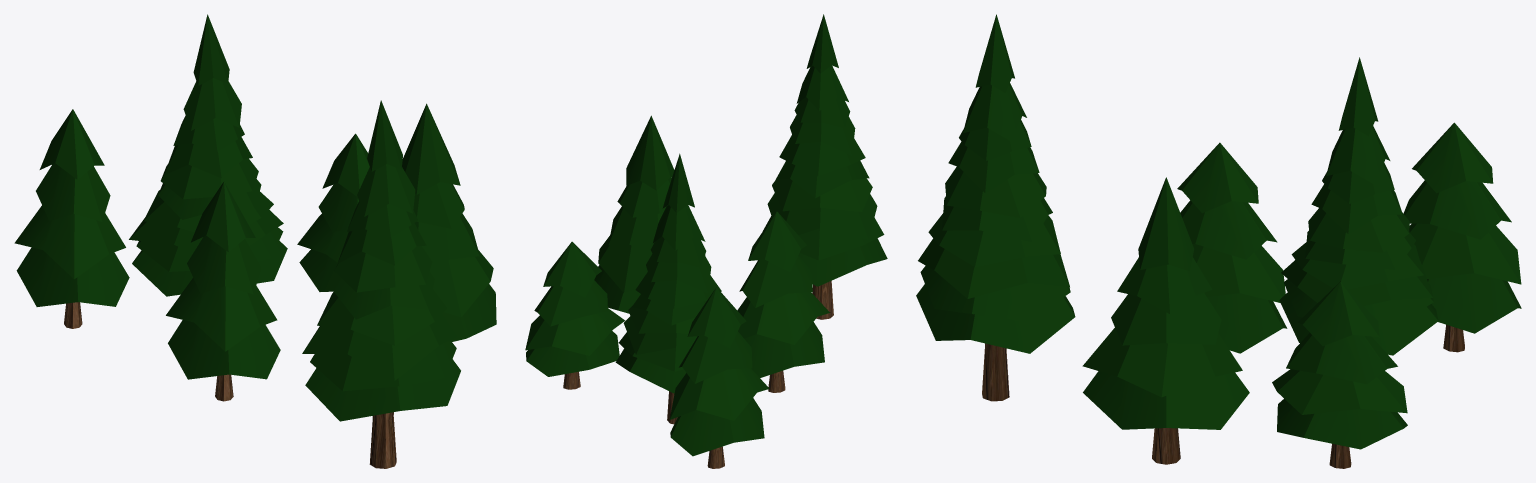
File: Arboles.fbx
3 renders of one model, left to right at view 1: azimuth 30°, elevation 25°; view 2: azimuth 150°, elevation 25°; view 3: azimuth 270°, elevation 25°, orthographic. The views are drawn at different scales.
Visible parts, largest first — view 1: Ramas (×2), Ramas.002 (×3), Ramas.001, Tronco; view 2: Ramas.002 (×3), Ramas (×2), Ramas.001, Tronco; view 3: Ramas (×2), Ramas.002 (×3), Ramas.001, Tronco, Tronco.001.
Part boxes in pixels (box(x1,y1,x2,y2)): Ramas (×2): box(129, 14, 460, 421); Ramas.002 (×3): box(14, 109, 369, 379); Ramas.001: box(402, 103, 496, 341); Tronco: box(369, 412, 396, 468); Ramas.002 (×3): box(525, 211, 829, 456); Ramas (×2): box(615, 14, 887, 393); Ramas.001: box(594, 115, 705, 313); Tronco: box(812, 281, 833, 319); Ramas (×2): box(916, 14, 1438, 355); Ramas.002 (×3): box(1177, 122, 1521, 449); Ramas.001: box(1082, 177, 1249, 429); Tronco: box(982, 343, 1009, 401); Tronco.001: box(1152, 428, 1180, 464).
Bounding box in the file's own units: 0.757 × 0.7913 × 1.14.
2 materials, 1 textured.
